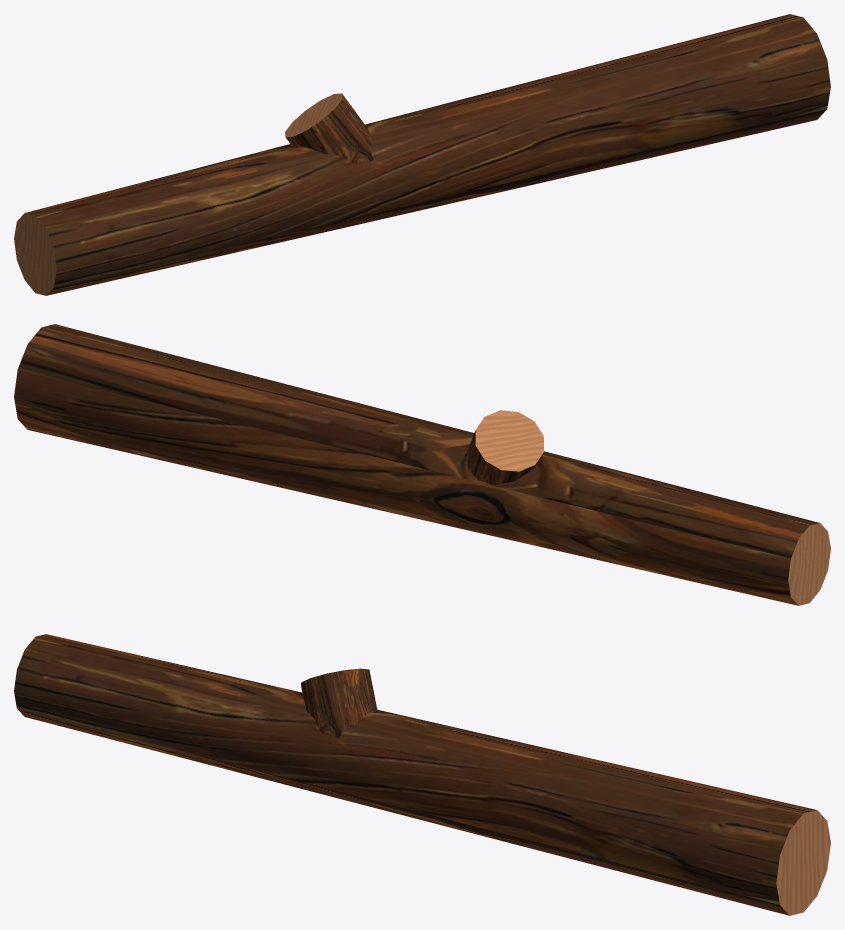
File: Palo_1.fbx
3 views of the same model, one above another, from view 1: azimuth 30°, elevation 25°; view 2: azimuth 150°, elevation 25°; view 3: azimuth 330°, elevation 25° (orthographic).
Visible parts, largest first — view 1: Cylinder; view 2: Cylinder; view 3: Cylinder.
Part boxes in pixels (bbox=[...]): Cylinder: bbox=[14, 14, 830, 295]; Cylinder: bbox=[14, 324, 830, 605]; Cylinder: bbox=[14, 634, 830, 915].
Bounding box in the file's own units: 1623 × 261 × 200.
